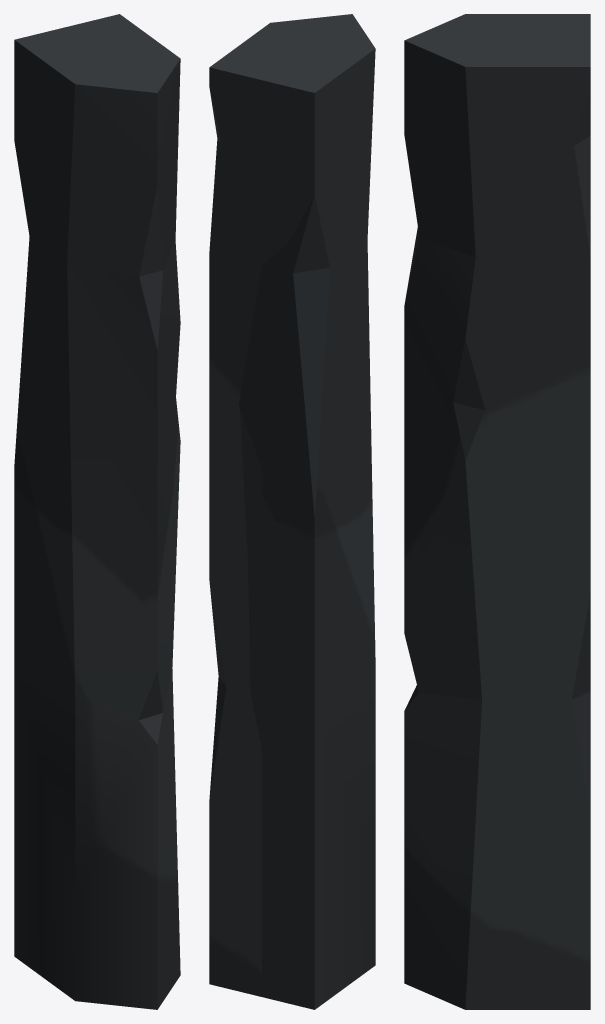
File: pillar_l.gltf
3 views of the same model, side by side, from view 1: azimuth 30°, elevation 25°; view 2: azimuth 150°, elevation 25°; view 3: azimuth 270°, elevation 25° (orthographic). The views are drawn at different scales.
Visible parts, largest first — view 1: pillar_l; view 2: pillar_l; view 3: pillar_l.
Boxes of the visible parts, x1,y1,x2,y2 form: pillar_l: (14,14,180,1009); pillar_l: (209,14,375,1009); pillar_l: (404,14,590,1009).
Size of the model in its own units: 0.7218 by 6 by 1.07.
1 material, 1 textured.
